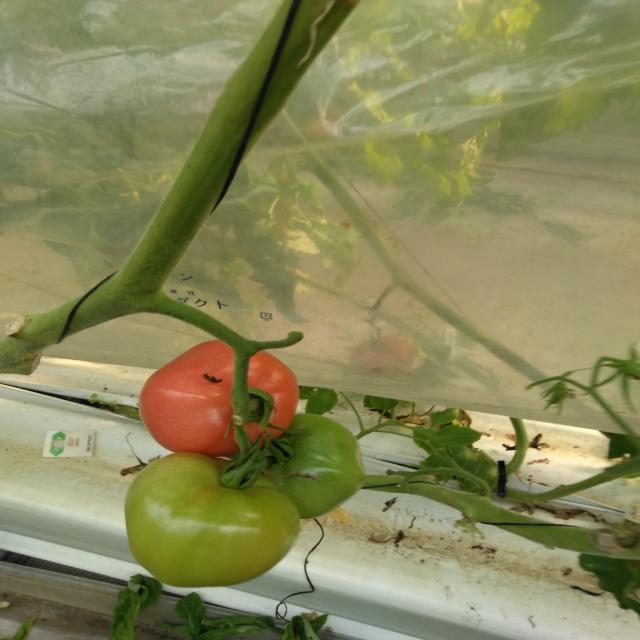n-riped: (138, 338, 299, 457)
n-unriped: (126, 452, 302, 588), (245, 414, 367, 520)
